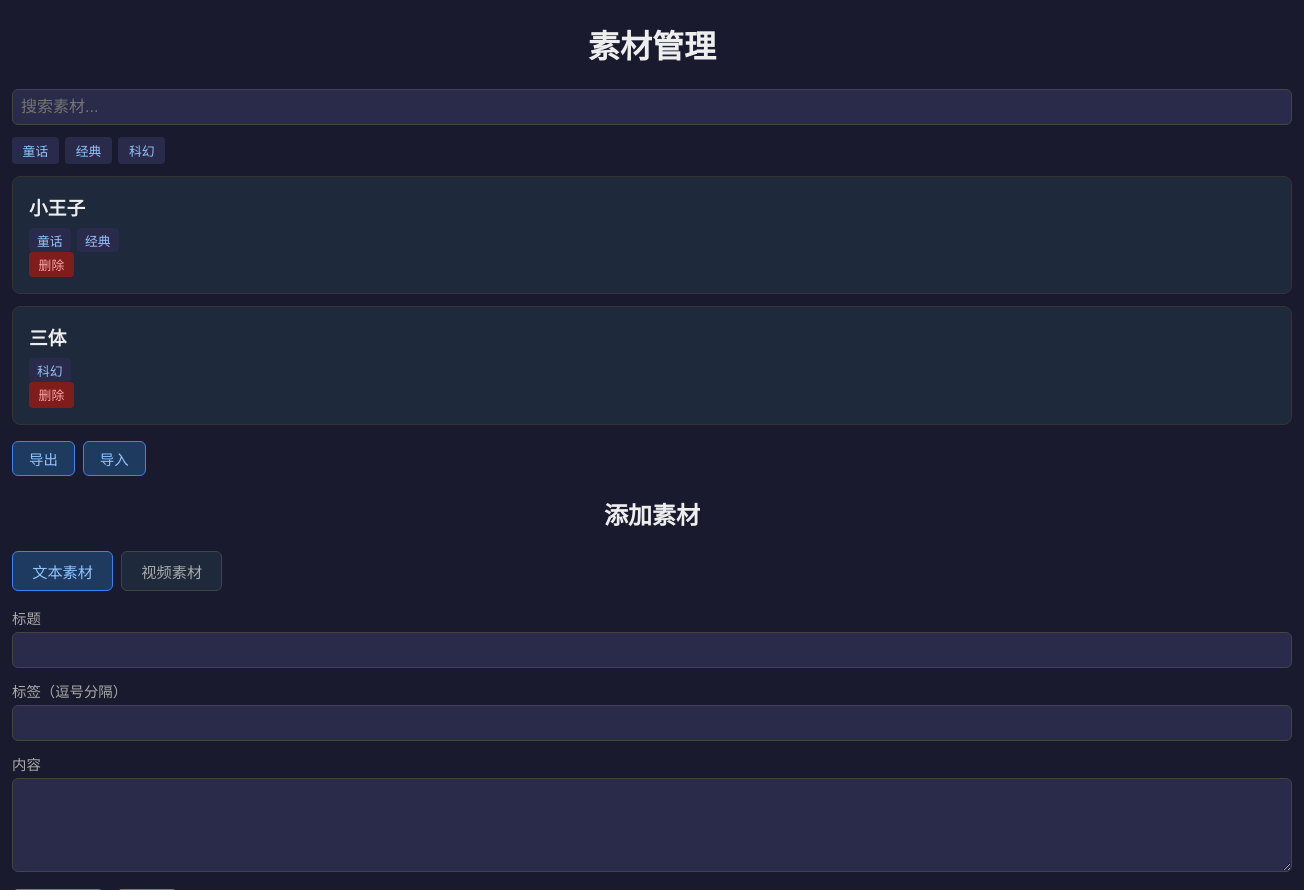
Test: AdminPage — view detail › clicking material card shows detail with content, segments and word count
Note: Click the first material card.
Click the element showing "小王子 童话 经典 删除" at [652, 235], box [12, 176, 1292, 294]
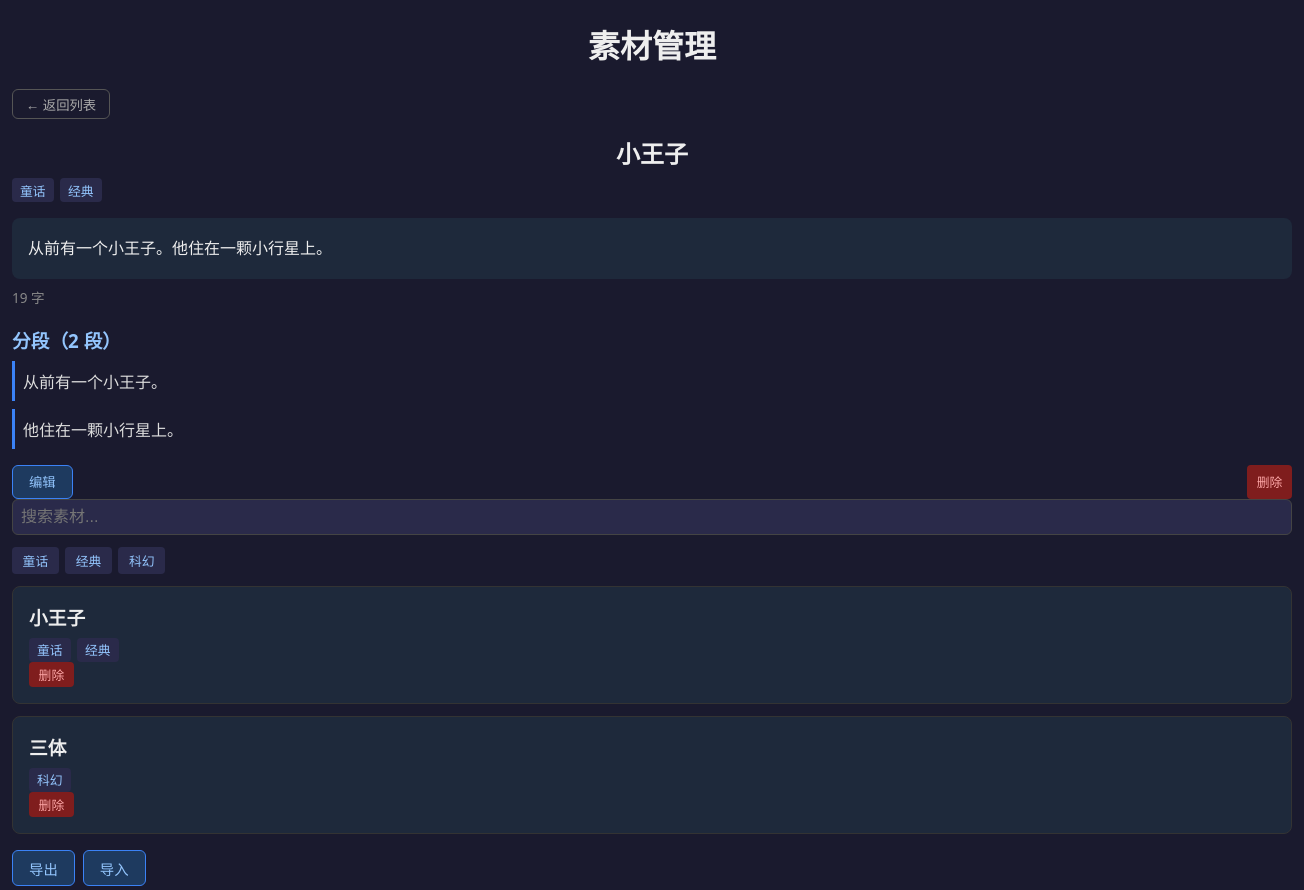
Expected: the element with class "detail-view" is shown, [12, 89, 1292, 499]
Expected: the element with class "detail-view" shows "小王子", [616, 138, 688, 170]
Expected: the element with class "detail-view" shows "从前有一个小王子。他住在一颗小行星上。", [28, 237, 332, 259]
